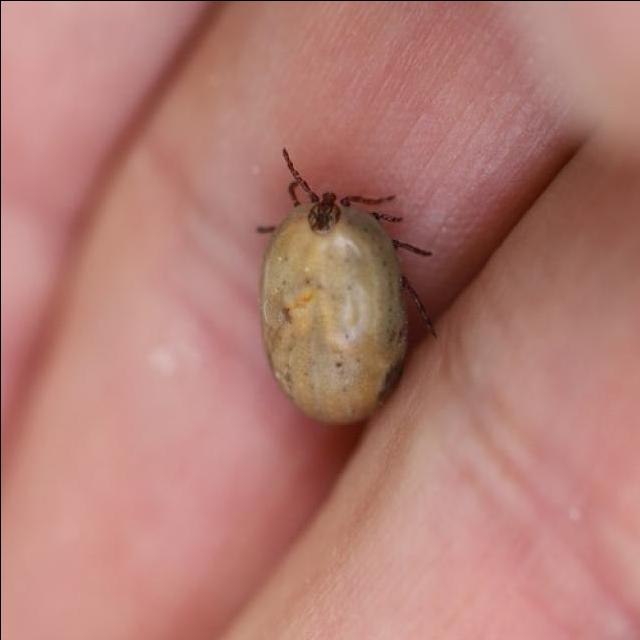Dermacentor Reticulatus-F-Fed: (255, 149, 435, 427)
